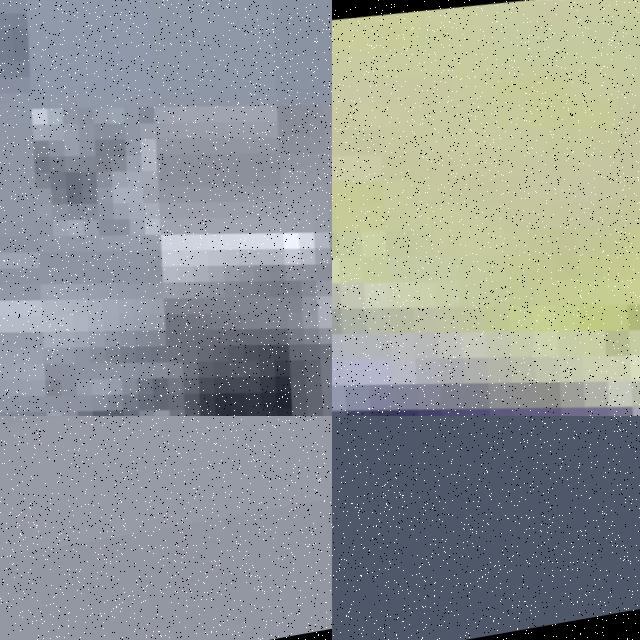0: (0, 0, 332, 416)
drone: (332, 0, 640, 416)
